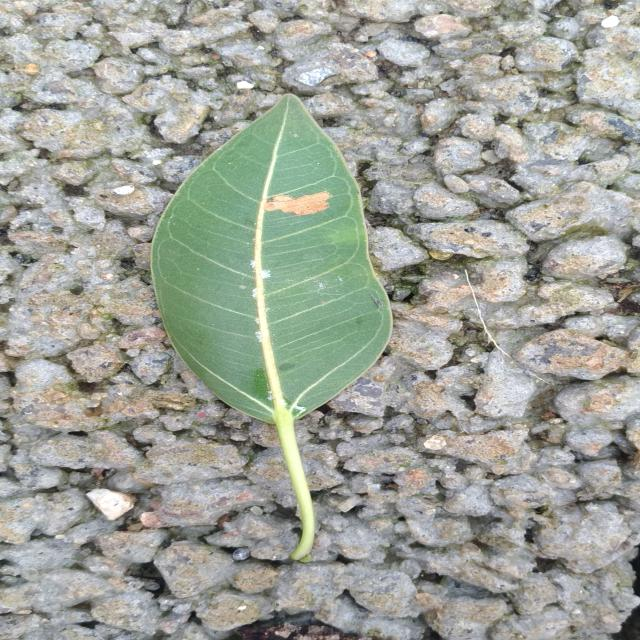camphor: (153, 95, 391, 422)
